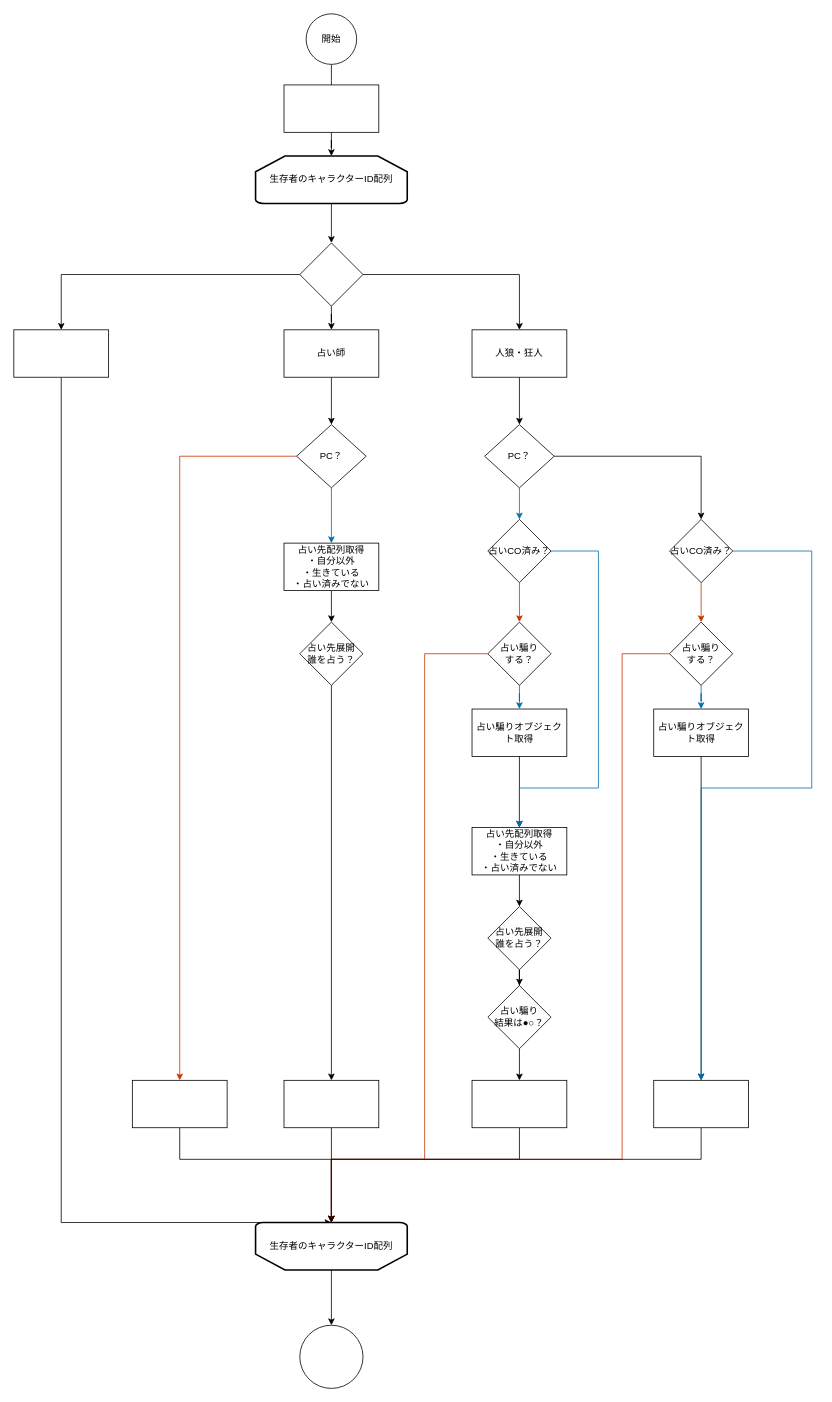
Image size: 832x1402. Some labels were removed from this diagram. Here are the shapes that lost their labels. From the top down, the box of each, then its label:
(283, 84, 379, 132): 生存者のキャラクターID配列を取得
(299, 242, 363, 306): 役職は？
(13, 329, 109, 377): 村人
(132, 1080, 227, 1128): 占いメソッド （占い先はメソッド内で決める）
(283, 1080, 379, 1128): 占いメソッド 占い結果が返される
(471, 1080, 567, 1128): 占いメソッド 選んだ結果が 返される
(653, 1080, 749, 1128): 占いメソッド （占い先と結果は メソッド内で決める）
